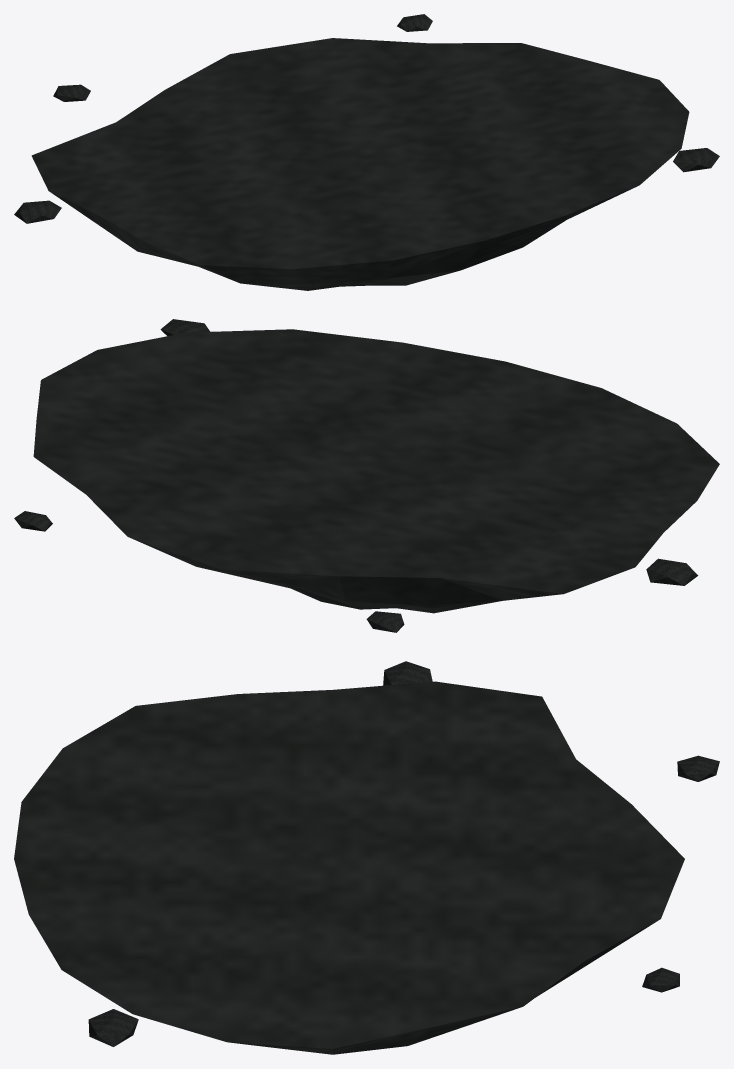
File: AuxAmmoCarbonPowder.fbx
3 views of the same model, one above another, from view 1: azimuth 30°, elevation 25°; view 2: azimuth 150°, elevation 25°; view 3: azimuth 270°, elevation 25° (orthographic). The views are drawn at different scales.
Visible parts, largest first — view 1: AuxAmmoCarbonPowder_export; view 2: AuxAmmoCarbonPowder_export; view 3: AuxAmmoCarbonPowder_export.
Boxes of the visible parts, x1,y1,x2,y2 form: AuxAmmoCarbonPowder_export: (14, 14, 719, 290); AuxAmmoCarbonPowder_export: (14, 319, 719, 632); AuxAmmoCarbonPowder_export: (14, 661, 719, 1054).
Bounding box in the file's own units: 7.63 × 5.79 × 1.37.
